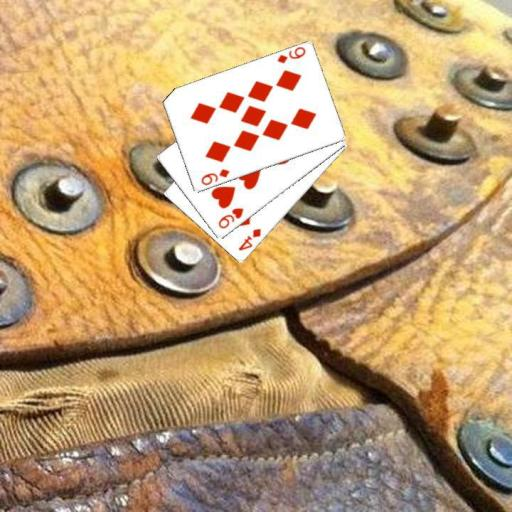4D: (236, 226, 263, 253)
9D: (274, 44, 307, 66), (198, 166, 230, 187)
9H: (215, 205, 245, 230)
